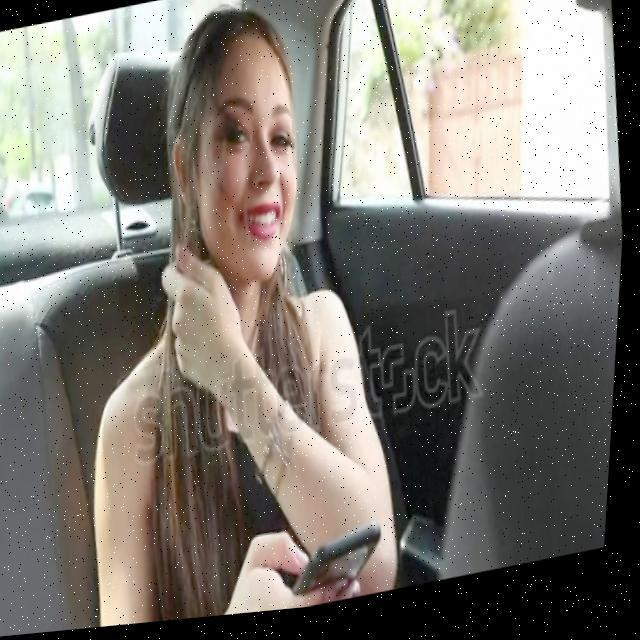PhoneCall: (299, 527, 396, 613)
